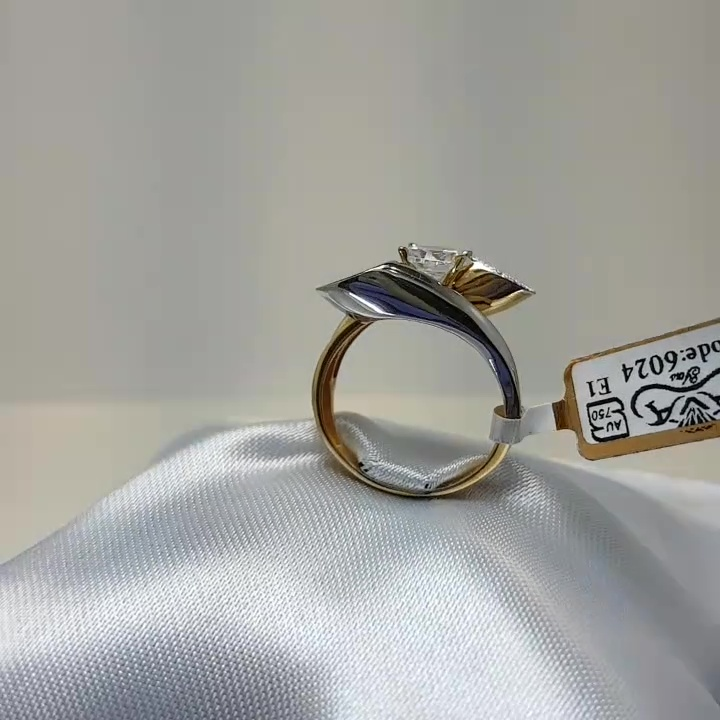Ring 7: (276, 232, 533, 524)
